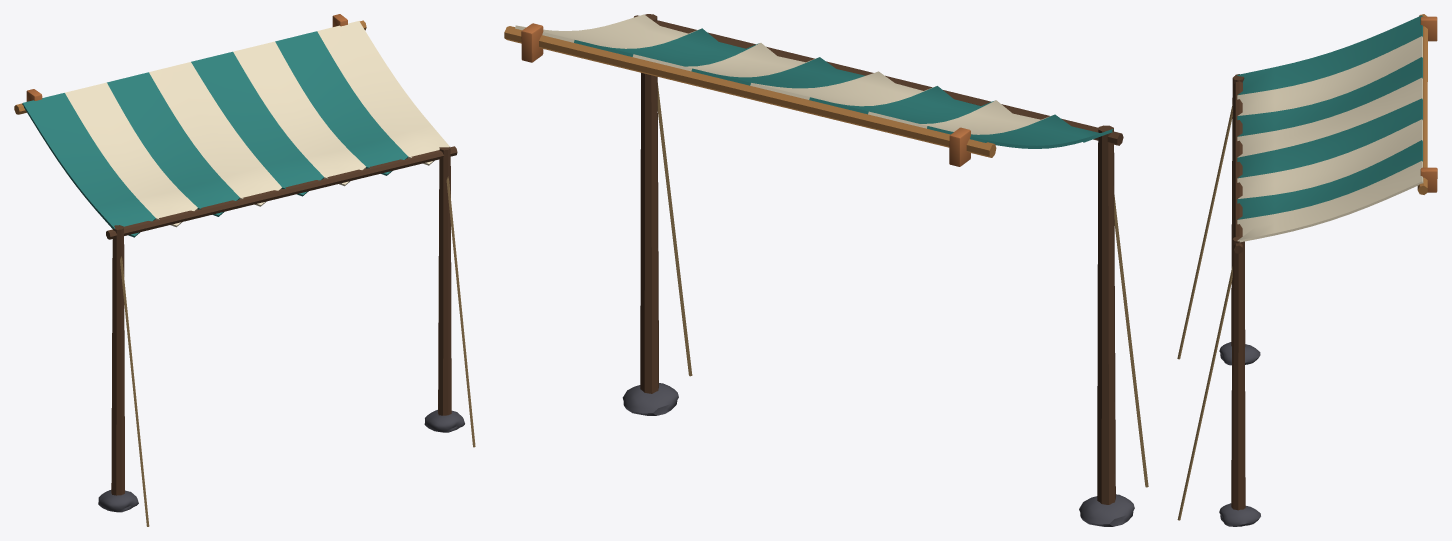
Rendered from deco_awning_wall.fbx.
3 renders of one model, left to right at view 1: azimuth 30°, elevation 25°; view 2: azimuth 150°, elevation 25°; view 3: azimuth 270°, elevation 25°, orthographic. The views are drawn at different scales.
Visible parts, largest first — view 1: Awning_Wall_Cloth, Awning_Wall_Frame; view 2: Awning_Wall_Frame, Awning_Wall_Cloth; view 3: Awning_Wall_Cloth, Awning_Wall_Frame.
Boxes of the visible parts, <box> form: Awning_Wall_Cloth: <box>22,21,449,237</box>; Awning_Wall_Frame: <box>14,14,475,526</box>; Awning_Wall_Frame: <box>504,14,1148,526</box>; Awning_Wall_Cloth: <box>515,14,1113,148</box>; Awning_Wall_Cloth: <box>1237,15,1423,242</box>; Awning_Wall_Frame: <box>1177,14,1437,526</box>.
Size of the model in its own units: 354 by 320 by 218.
